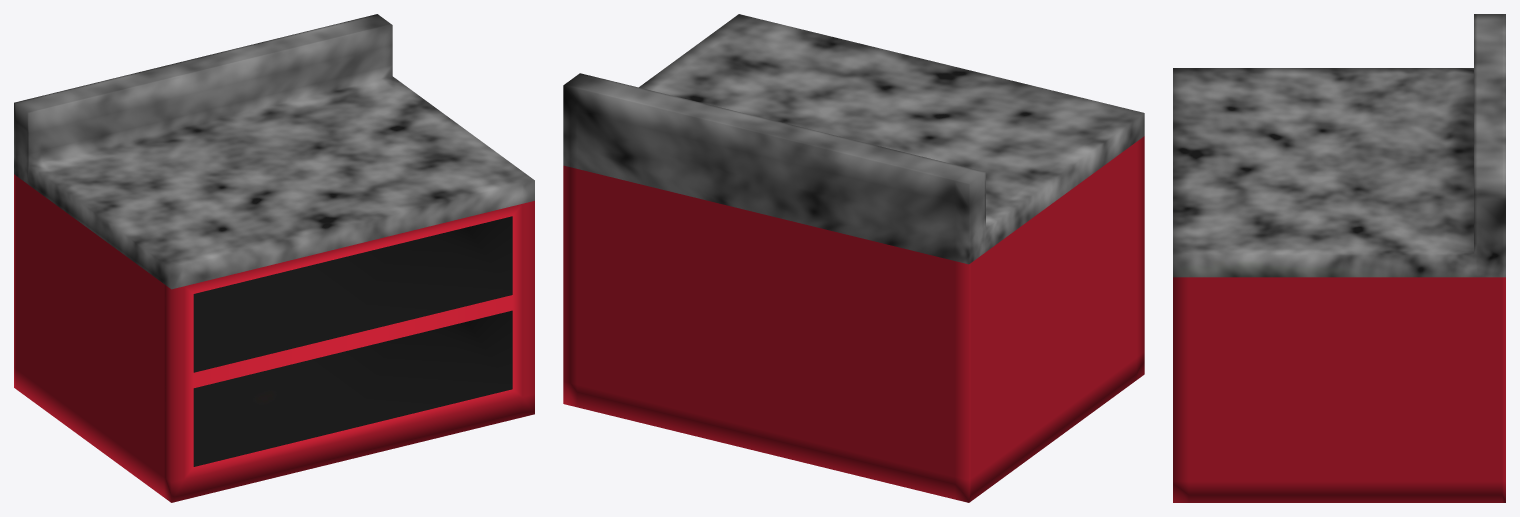
The model's file is KS_Counter.fbx.
The picture shows the model from 3 angles, left to right: view 1: azimuth 30°, elevation 25°; view 2: azimuth 150°, elevation 25°; view 3: azimuth 270°, elevation 25°; orthographic projection. The views are drawn at different scales.
Parts seen in each view (by area): view 1: KS_Counter; view 2: KS_Counter; view 3: KS_Counter.
Boxes of the visible parts, x1,y1,x2,y2 form: KS_Counter: (14, 14, 534, 502); KS_Counter: (563, 14, 1144, 502); KS_Counter: (1173, 14, 1505, 502).
Bounding box in the file's own units: 200 × 150 × 150.
